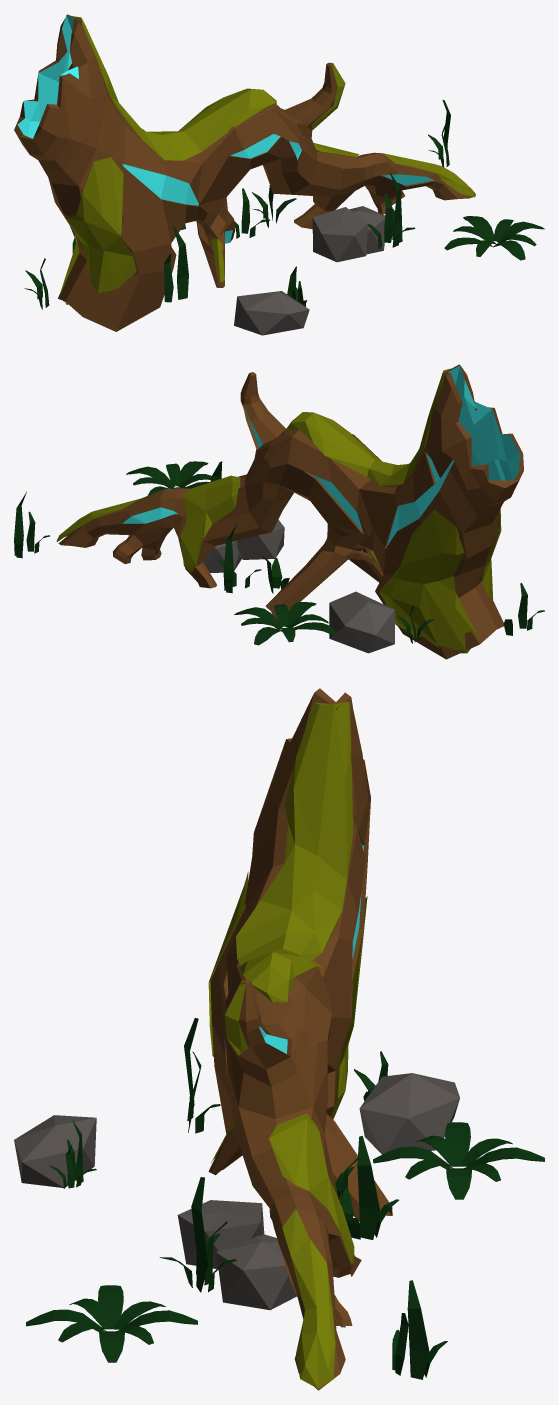
The model's file is racine_LVL2.fbx.
The picture shows the model from 3 angles, top to bottom: view 1: azimuth 30°, elevation 25°; view 2: azimuth 150°, elevation 25°; view 3: azimuth 270°, elevation 25°; orthographic projection. The views are drawn at different scales.
Parts seen in each view (by area): view 1: Plane.153; view 2: Plane.153; view 3: Plane.153.
Part boxes in pixels (box(x1,y1,x2,y2)): Plane.153: box(14, 14, 544, 335); Plane.153: box(14, 364, 544, 659); Plane.153: box(14, 688, 544, 1390).
Size of the model in its own units: 2.64 by 1.71 by 1.55.
